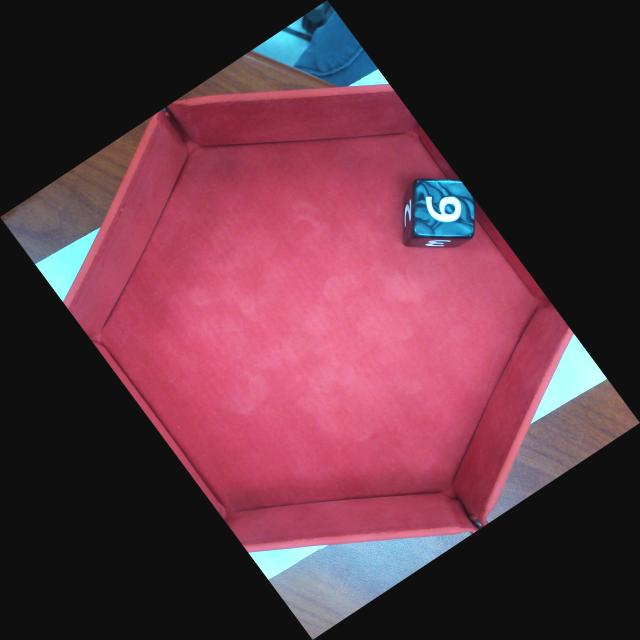dice: (410, 177, 477, 240)
